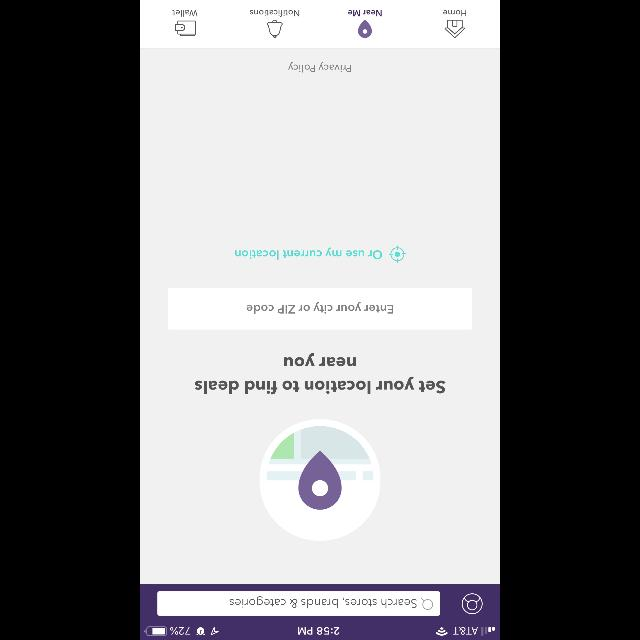icon: (260, 418, 380, 542), (462, 594, 482, 614), (445, 20, 465, 38), (174, 22, 196, 36), (388, 245, 406, 262), (358, 20, 372, 38), (268, 20, 282, 38), (421, 597, 433, 609)
input: (168, 288, 472, 330), (158, 591, 440, 615)
text: (195, 352, 445, 393), (229, 596, 416, 608), (235, 247, 382, 259), (247, 302, 393, 314), (288, 62, 350, 72), (250, 10, 298, 16), (348, 10, 382, 16), (172, 10, 198, 16), (442, 10, 466, 16)
uppertaskbar: (140, 626, 500, 640)
